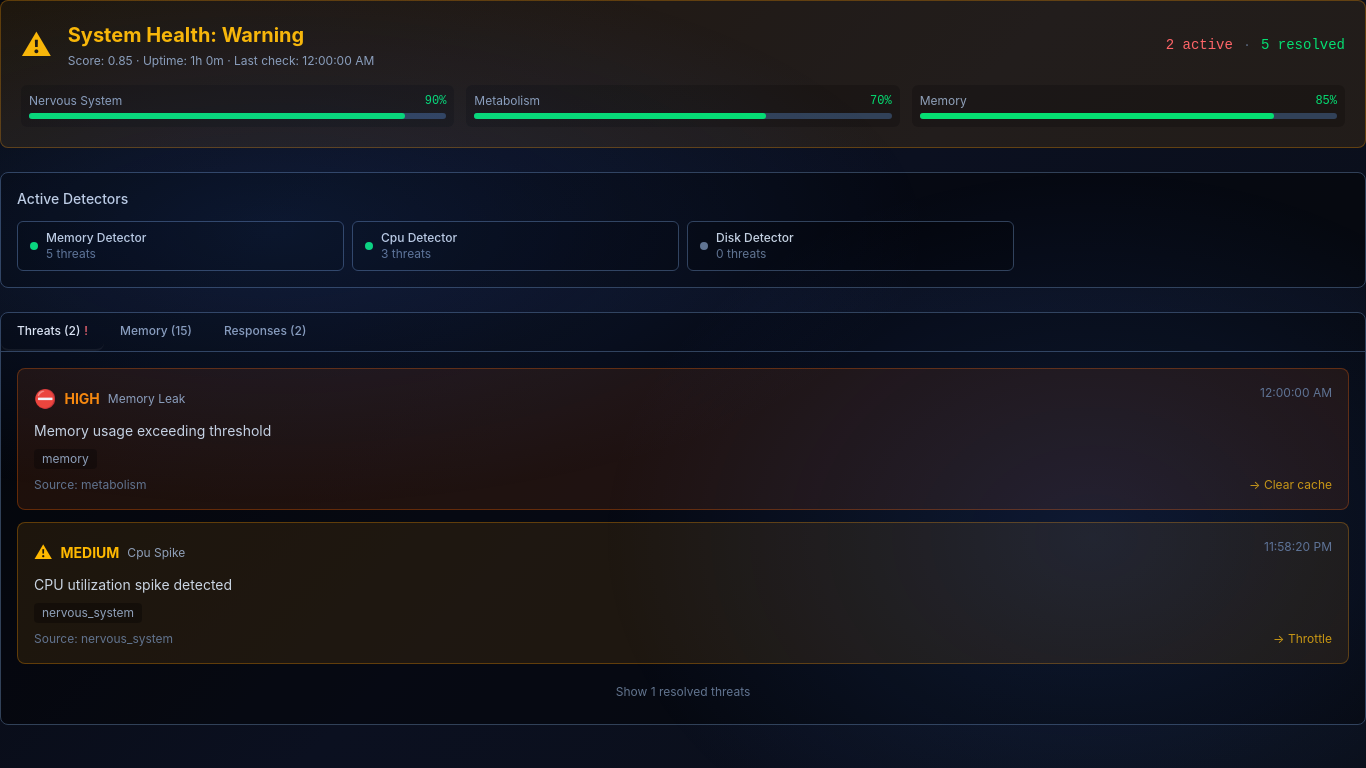
ImmuneSystemPanel › renders responses tab
Click the button "Responses (2)": (265, 332) [208,313,322,351]
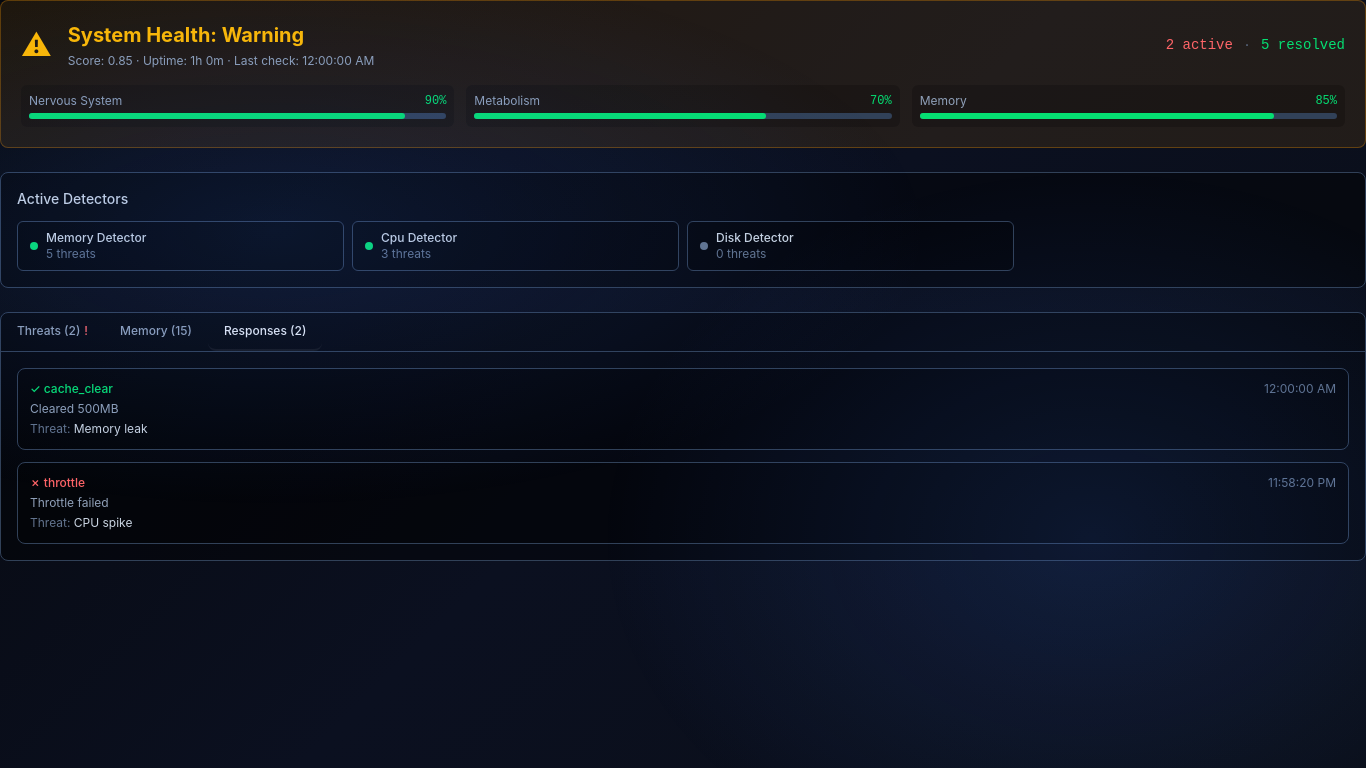
Expected: the text "✓ cache_clear" is shown, [30,381,113,397]
Expected: the text "✗ throttle" is shown, [30,475,85,491]
